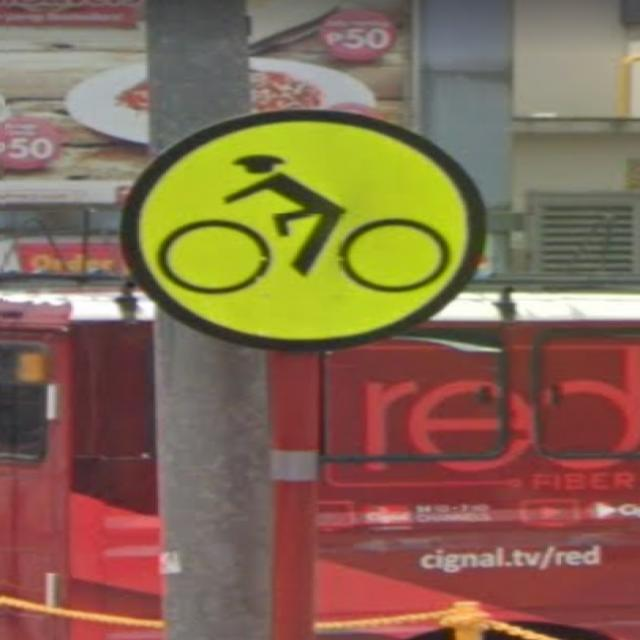bike lane: (122, 111, 485, 346)
